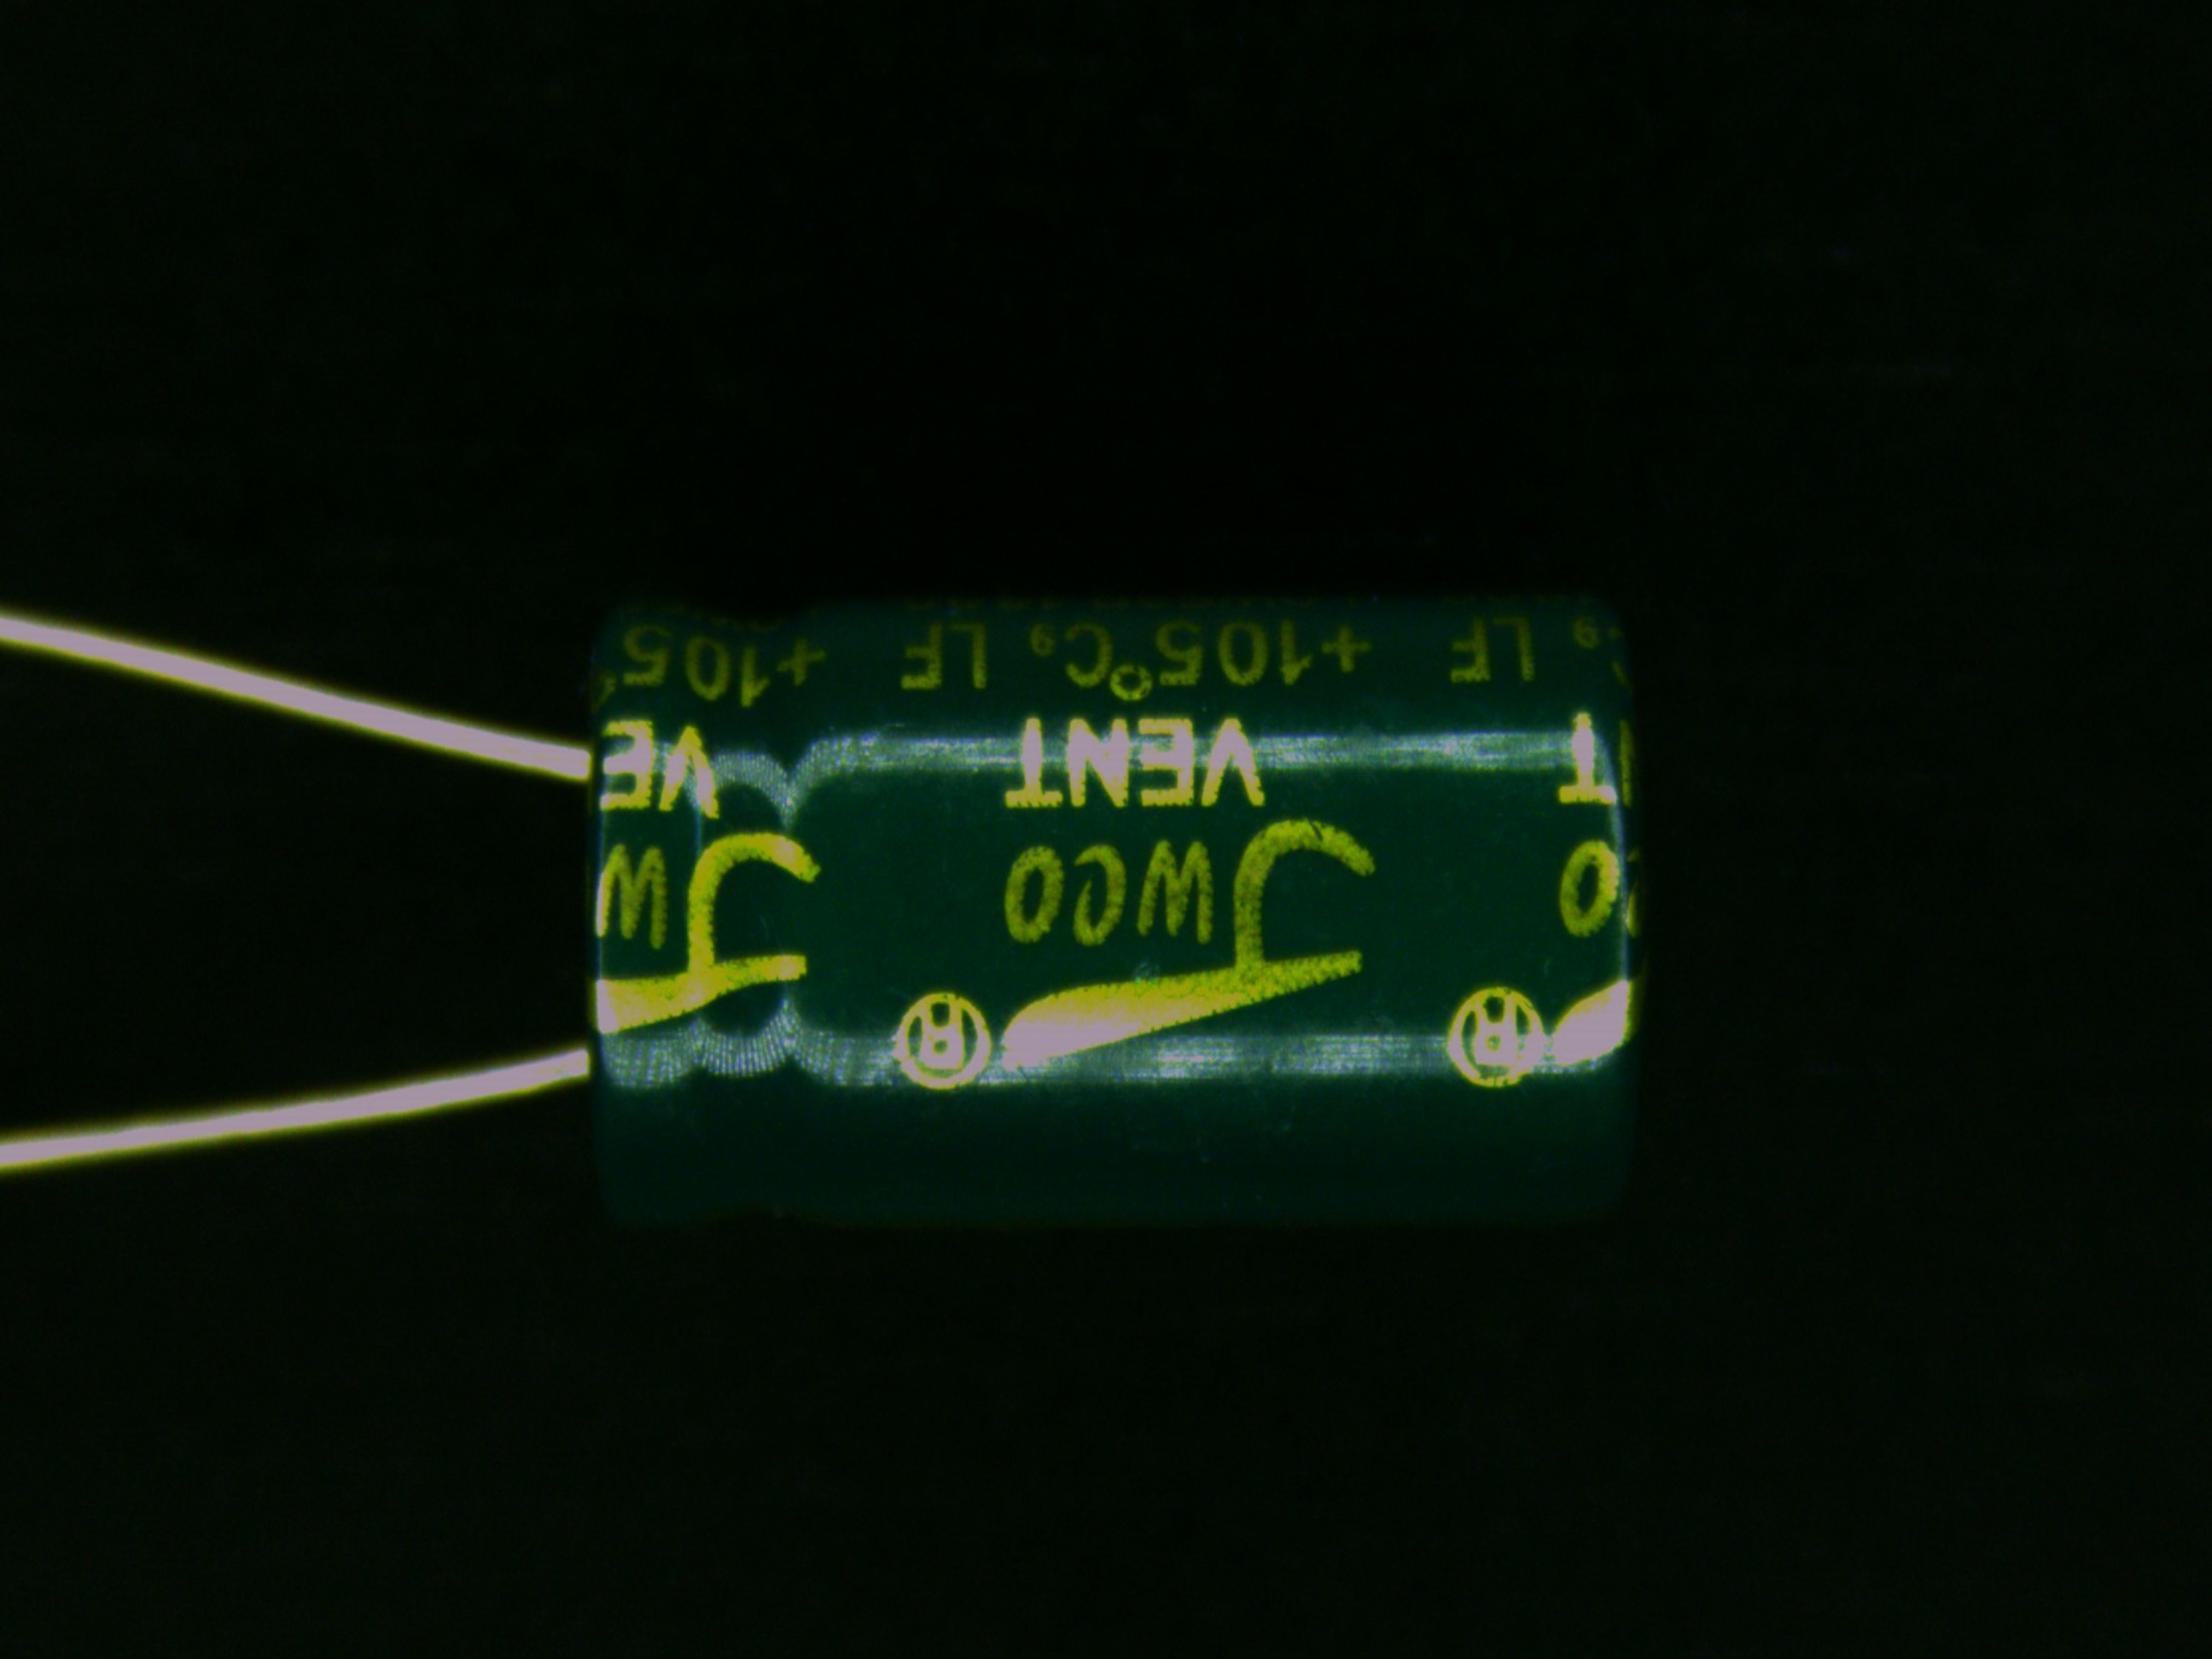c1: (425, 582, 1648, 1227)
